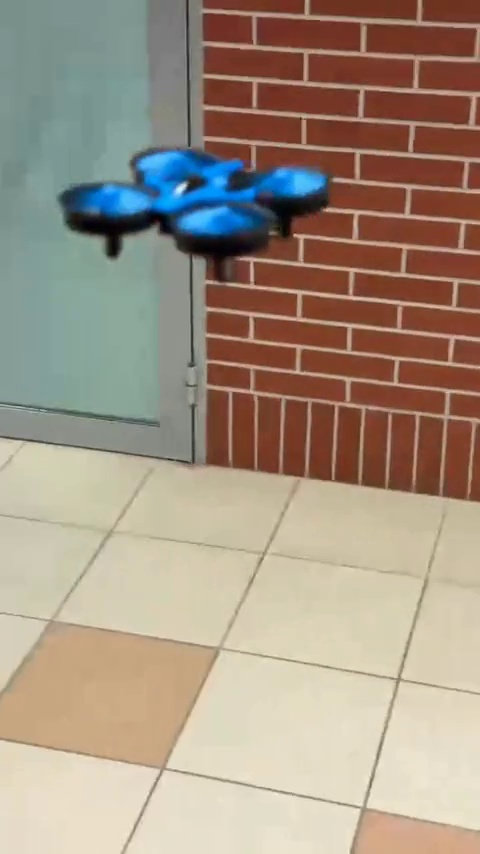drone: (54, 153, 334, 273)
